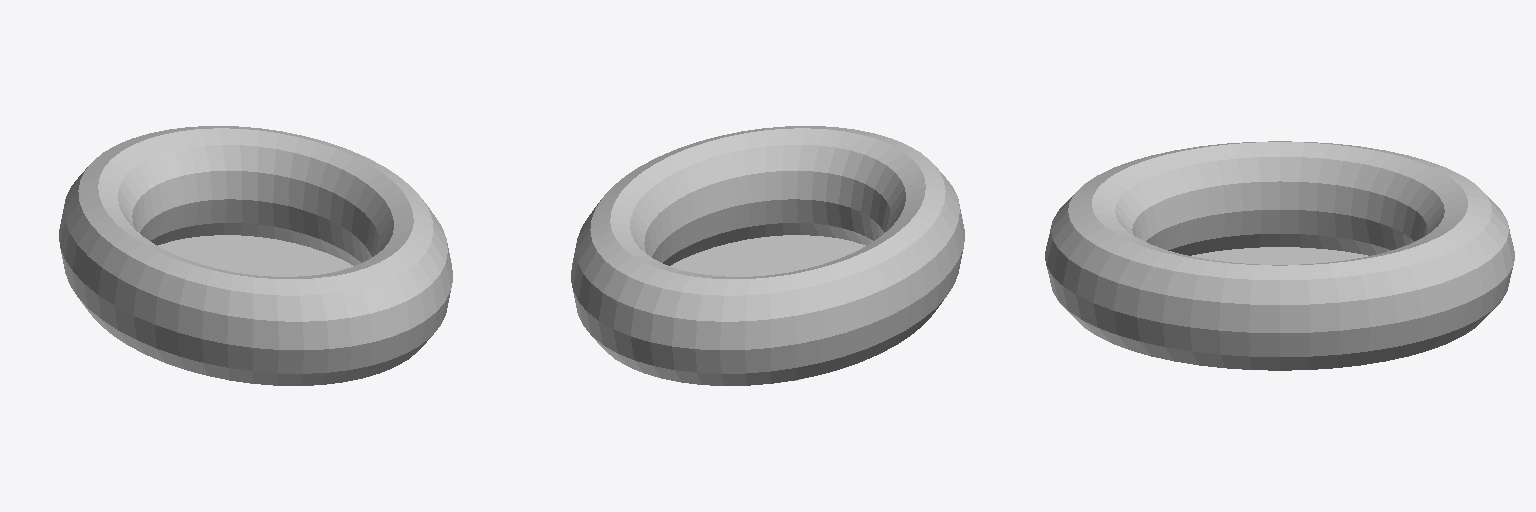
The model's file is ninho.obj.
3 views of the same model, side by side, from view 1: azimuth 30°, elevation 25°; view 2: azimuth 150°, elevation 25°; view 3: azimuth 270°, elevation 25° (orthographic).
Parts seen in each view (by area): view 1: Torus, Plane; view 2: Torus, Plane; view 3: Torus, Plane.
Boxes of the visible parts, box(x1,y1,x2,y2) form: Torus: box(59, 126, 452, 385); Plane: box(158, 235, 353, 276); Torus: box(571, 126, 964, 385); Plane: box(670, 235, 865, 380); Torus: box(1045, 141, 1514, 370); Plane: box(1192, 247, 1367, 264).
Size of the model in its own units: 2.11 by 0.6643 by 2.72.